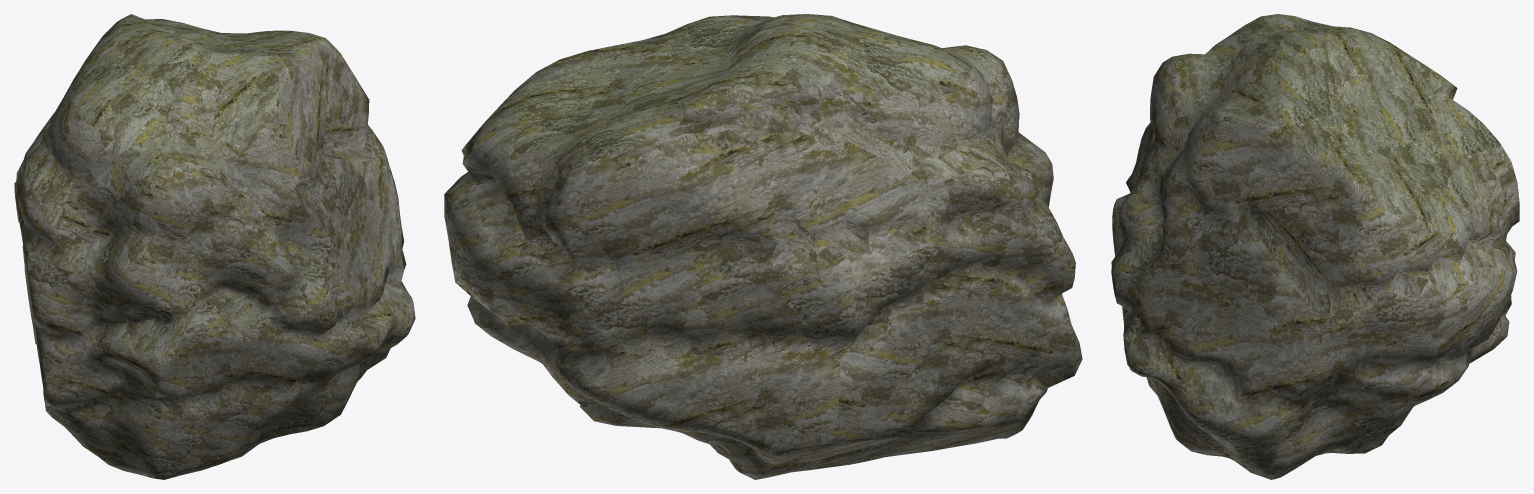
The model's file is rock_outcrop.glb.
3 views of the same model, side by side, from view 1: azimuth 30°, elevation 25°; view 2: azimuth 150°, elevation 25°; view 3: azimuth 270°, elevation 25° (orthographic). The views are drawn at different scales.
Parts seen in each view (by area): view 1: plant; view 2: plant; view 3: plant.
Part boxes in pixels (x1=…): plant: x1=14, y1=14, x2=415, y2=479; plant: x1=444, y1=14, x2=1082, y2=479; plant: x1=1111, y1=14, x2=1519, y2=479.
Bounding box in the file's own units: 1.28 × 1.06 × 1.1.
Materials: 1 (1 with a texture image).
